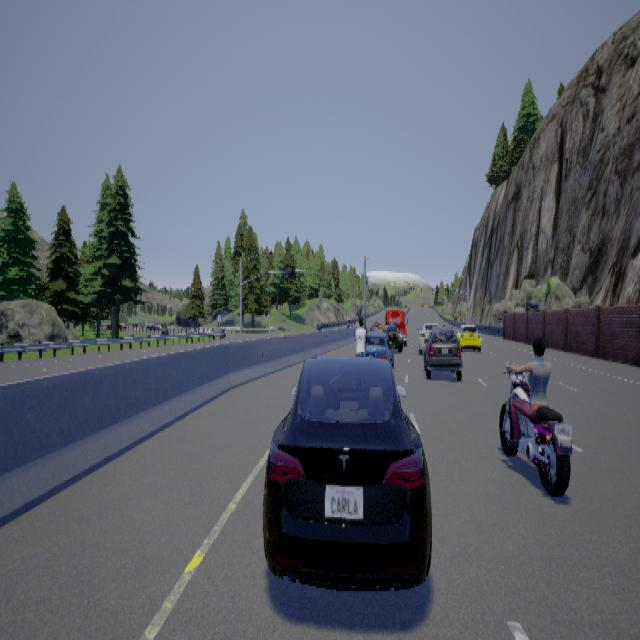motobike: (498, 332, 575, 495)
vehicle: (262, 353, 431, 590), (417, 322, 463, 384), (359, 327, 395, 372)
